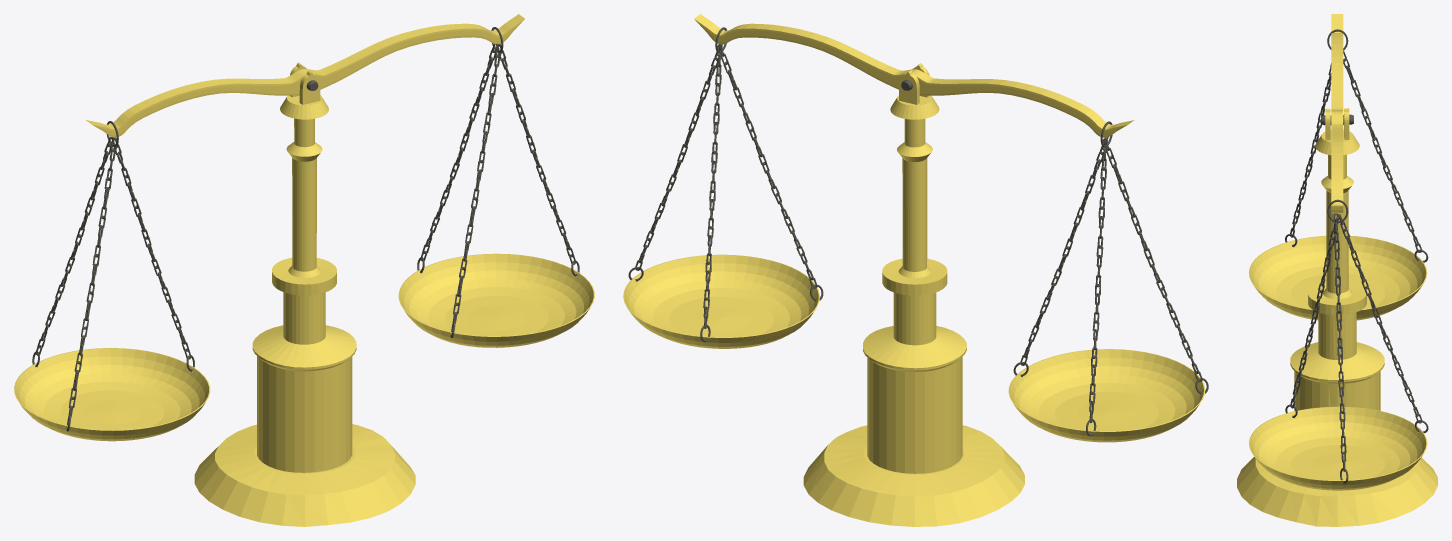
Rendered from scale lowpoly.fbx.
3 renders of one model, left to right at view 1: azimuth 30°, elevation 25°; view 2: azimuth 150°, elevation 25°; view 3: azimuth 270°, elevation 25°, orthographic. The views are drawn at different scales.
Visible parts, largest first — view 1: Body; view 2: Body; view 3: Body.
Part boxes in pixels (x1,y1,x2,y2): Body: (14,14,594,526); Body: (623,14,1208,526); Body: (1237,14,1437,526).
Size of the model in its own units: 999 by 723 by 343.
